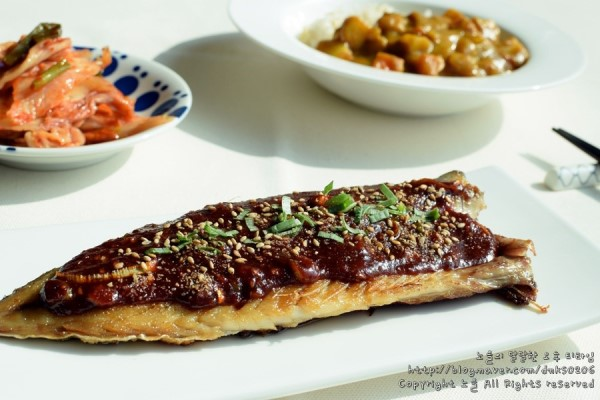godeung-eogu-i: (0, 169, 547, 348)
